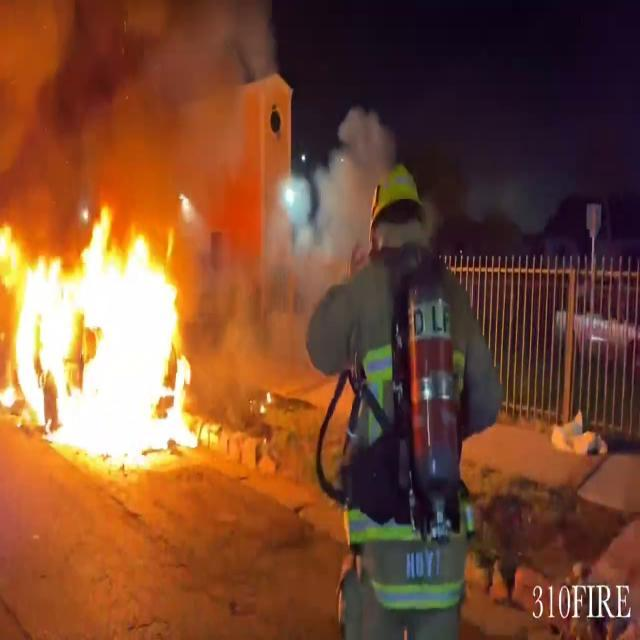Fire: (0, 195, 219, 473)
Smoke: (0, 0, 272, 231)
